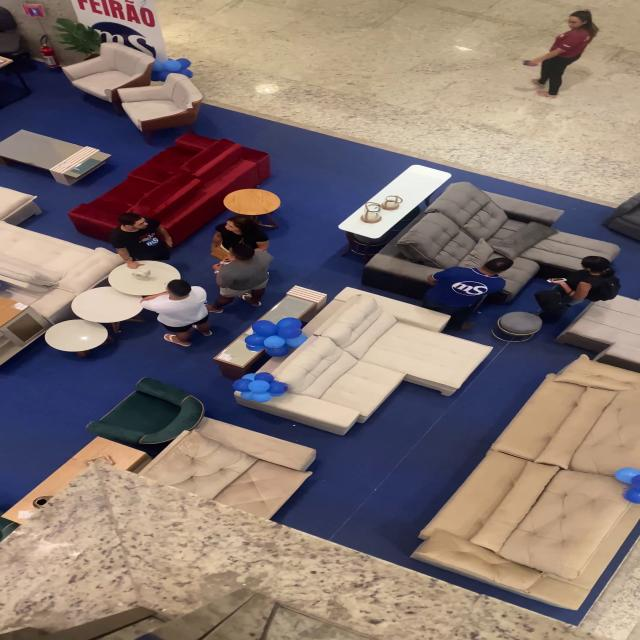person: (425, 246, 513, 336), (516, 8, 598, 104), (141, 269, 213, 350), (554, 250, 621, 336), (101, 203, 176, 271), (206, 238, 274, 309), (212, 214, 265, 249)
